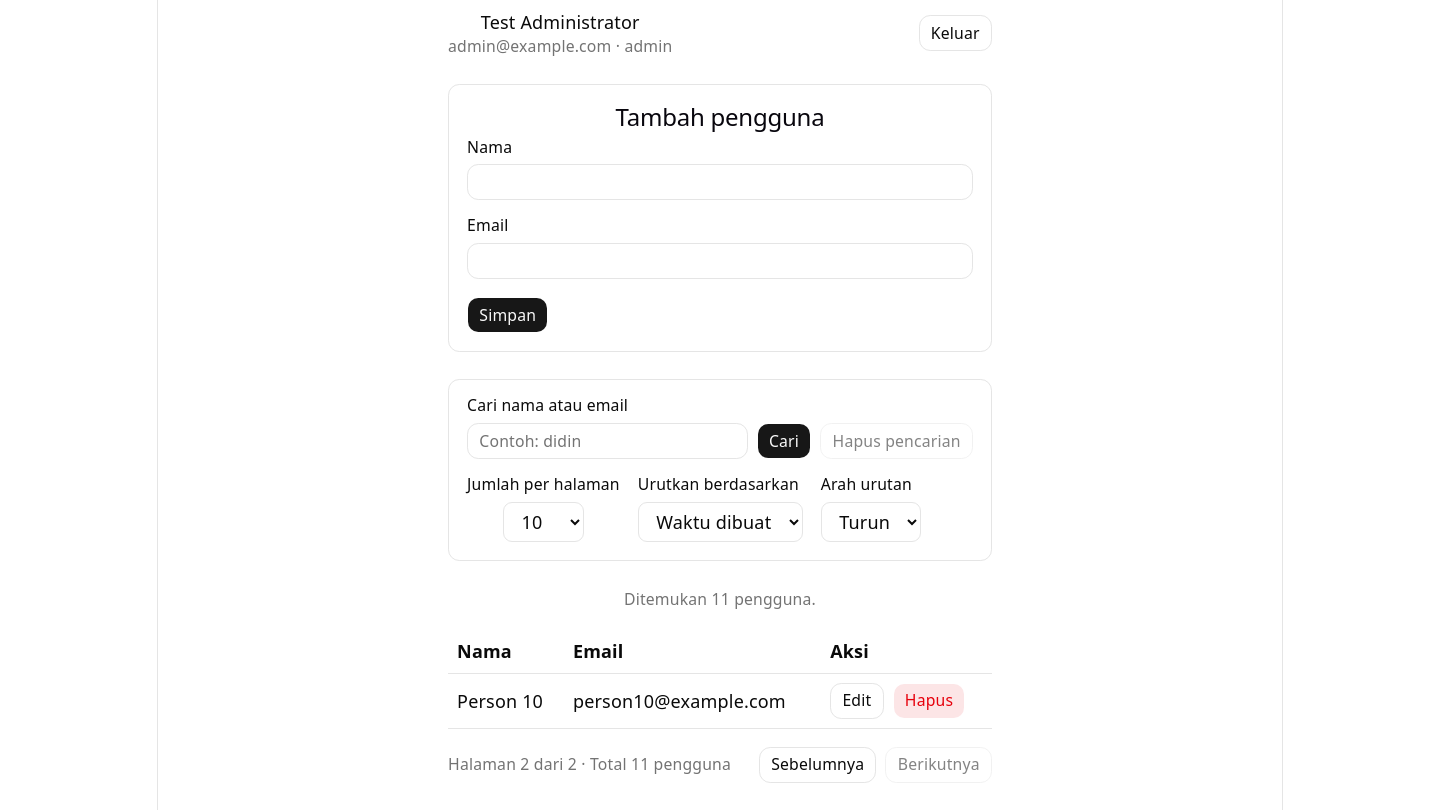
Test case: Users route › returns to the previous page after deleting the last row
(page scrolled)
Expected: the text "Person 10" is shown, [448,673,564,728]
Click the button "Hapus": (929,701) [893,683,966,719]
(page scrolled)
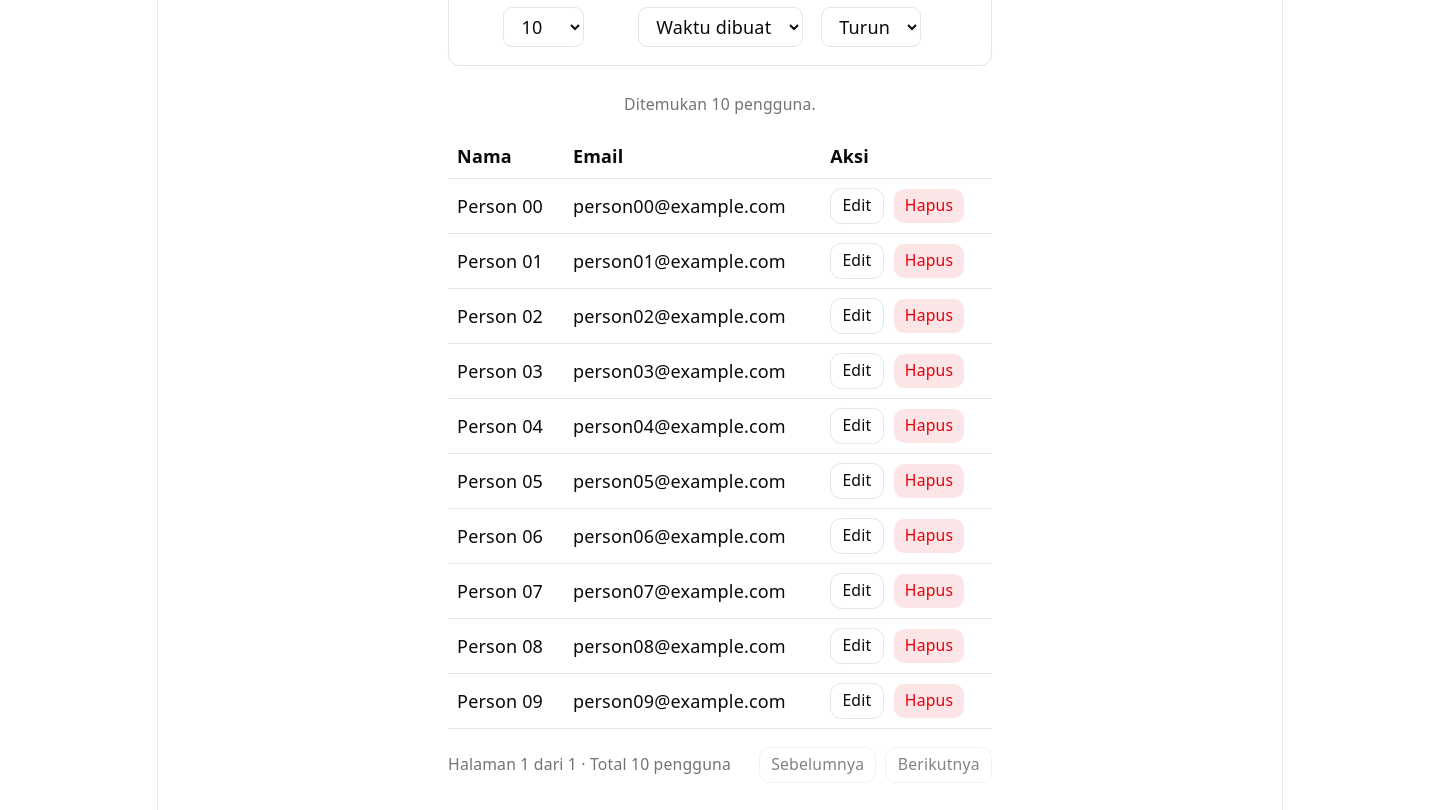
Expected: the button "Berikutnya" is disabled, [886,747,992,783]
Now the text "Person 00" is shown, box [448,178,564,233]
Now the text "Halaman 1 dari 1 · Total 10 pengguna" is shown, box [448,753,731,776]
